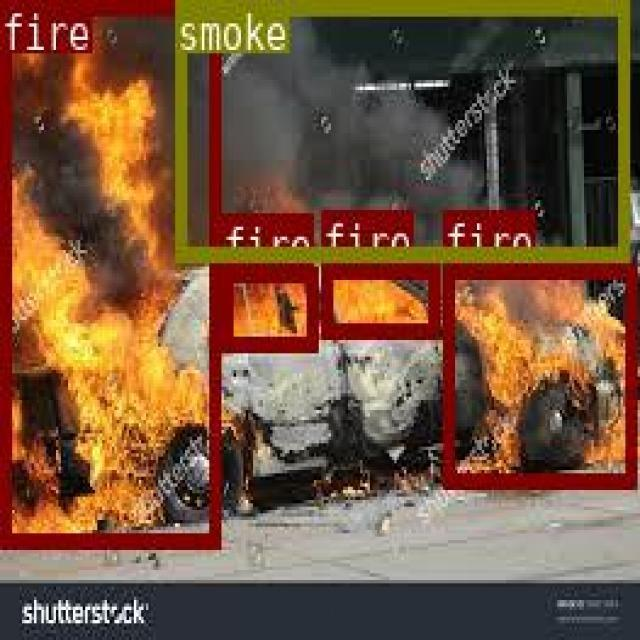fire: (0, 0, 217, 547), (441, 263, 635, 485), (321, 263, 438, 336), (220, 265, 316, 349)
smoke: (173, 0, 628, 260)
